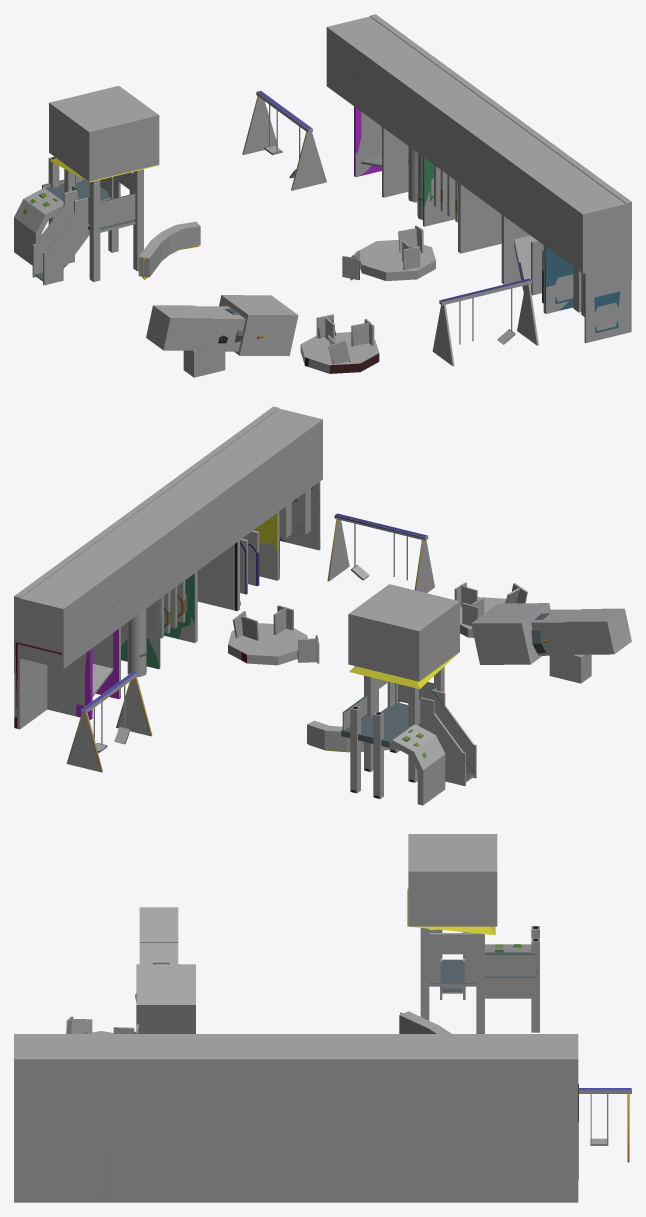
File: KidsZone.fbx
3 views of the same model, one above another, from view 1: azimuth 30°, elevation 25°; view 2: azimuth 150°, elevation 25°; view 3: azimuth 270°, elevation 25° (orthographic). The views are drawn at different scales.
Visible parts, largest first — view 1: pasted__pasted__Plane009, pasted__pasted__Box028, pasted__pCube1, pasted__pasted__Box054, pasted__pasted__Box047, pasted__pCube2, pasted__KidSpace props, pasted__pasted__Box050, pasted__pasted__Box052, pasted__pCube3, pasted__pasted__Object002, pasted__pasted__Box030 (+22 smaller); view 2: pasted__pasted__Plane009, pasted__pasted__Box028, pasted__pasted__Box054, pasted__KidSpace props, pasted__pCube1, pasted__pCube2, polySurface222, pasted__pasted__Box049, pasted__pasted__Box053, pasted__pCube3, pasted__pasted__Box029, pasted__pasted__Cylinder010 (+22 smaller); view 3: pasted__pasted__Box054, pasted__pasted__Plane009, pasted__pasted__Box028, pasted__pCube1, polySurface222, pasted__pCube2, pasted__pasted__Box021, pasted__pasted__Plane002, pasted__pasted__Plane001, pasted__pCube5, pasted__pCube3, pasted__pasted__Box020 (+3 smaller).
Part boxes in pixels (bbox=[...]): pasted__pasted__Plane009: bbox=[326, 16, 625, 273]; pasted__pasted__Box028: bbox=[49, 85, 159, 181]; pasted__pCube1: bbox=[219, 295, 298, 356]; pasted__pasted__Box054: bbox=[370, 14, 631, 333]; pasted__pasted__Box047: bbox=[584, 263, 625, 342]; pasted__pCube2: bbox=[146, 305, 212, 350]; pasted__KidSpace props: bbox=[354, 78, 620, 342]; pasted__pasted__Box050: bbox=[458, 183, 501, 253]; pasted__pasted__Box052: bbox=[381, 127, 408, 197]; pasted__pCube3: bbox=[197, 306, 245, 351]; pasted__pasted__Object002: bbox=[89, 180, 100, 281]; pasted__pasted__Box030: bbox=[291, 132, 326, 190]; pasted__pasted__Plane009: bbox=[20, 408, 322, 668]; pasted__pasted__Box028: bbox=[348, 584, 459, 681]; pasted__pasted__Box054: bbox=[14, 406, 279, 729]; pasted__KidSpace props: bbox=[14, 482, 320, 728]; pasted__pCube1: bbox=[471, 603, 550, 664]; pasted__pCube2: bbox=[564, 608, 631, 654]; polySurface222: bbox=[341, 653, 475, 798]; pasted__pasted__Box049: bbox=[197, 540, 239, 611]; pasted__pasted__Box053: bbox=[47, 649, 91, 719]; pasted__pCube3: bbox=[531, 609, 580, 655]; pasted__pasted__Box029: bbox=[66, 713, 102, 772]; pasted__pasted__Cylinder010: bbox=[127, 608, 146, 676]; pasted__pasted__Box054: bbox=[14, 1056, 578, 1202]; pasted__pasted__Plane009: bbox=[14, 1034, 578, 1056]; pasted__pasted__Box028: bbox=[408, 834, 497, 926]; pasted__pCube1: bbox=[136, 964, 195, 1033]; polySurface222: bbox=[407, 889, 538, 991]; pasted__pCube2: bbox=[139, 907, 178, 942]; pasted__pasted__Box021: bbox=[485, 954, 536, 976]; pasted__pasted__Plane002: bbox=[420, 928, 429, 1020]; pasted__pasted__Plane001: bbox=[476, 933, 484, 1033]; pasted__pCube5: bbox=[485, 980, 531, 998]; pasted__pCube3: bbox=[139, 942, 178, 964]; pasted__pasted__Box020: bbox=[429, 933, 476, 954].
Size of the model in its own units: 2943 by 1121 by 3477.
2 materials, 1 textured.
